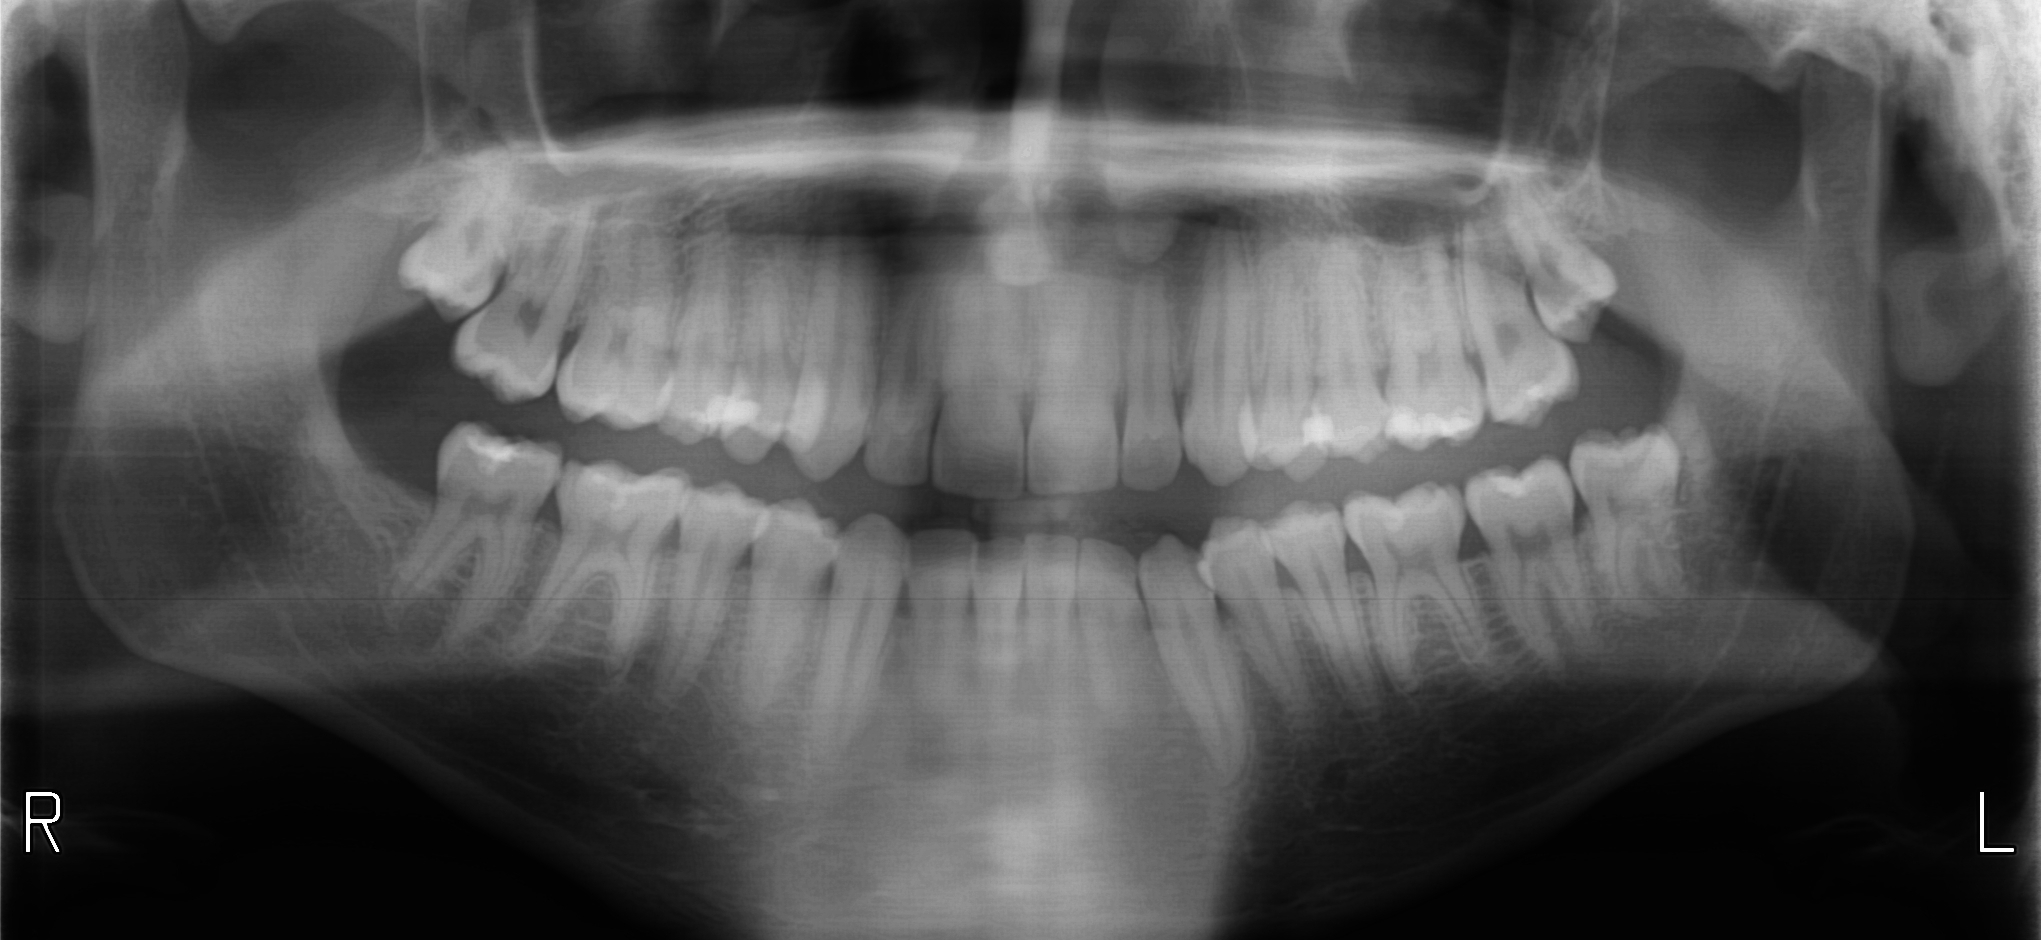cavity: (1147, 605, 1158, 618), (1135, 612, 1147, 624)
